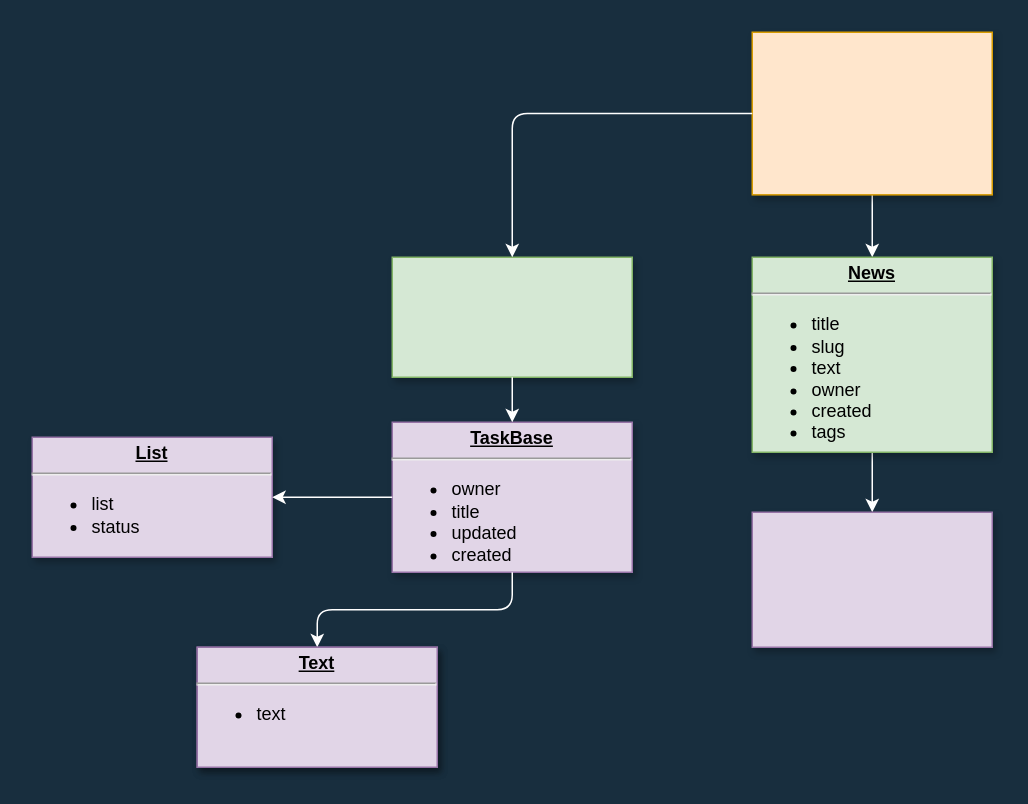
This 1028x804 diagram has some shape labels left out. The shapes that lost their labels are listed below. From the top down, each one's centre as x and y in pixels, then its label:
At point (873, 115): "User pk first_name last_name position".
At point (513, 319): "DailyPlan date tasks".
At point (873, 581): "Tag title".
